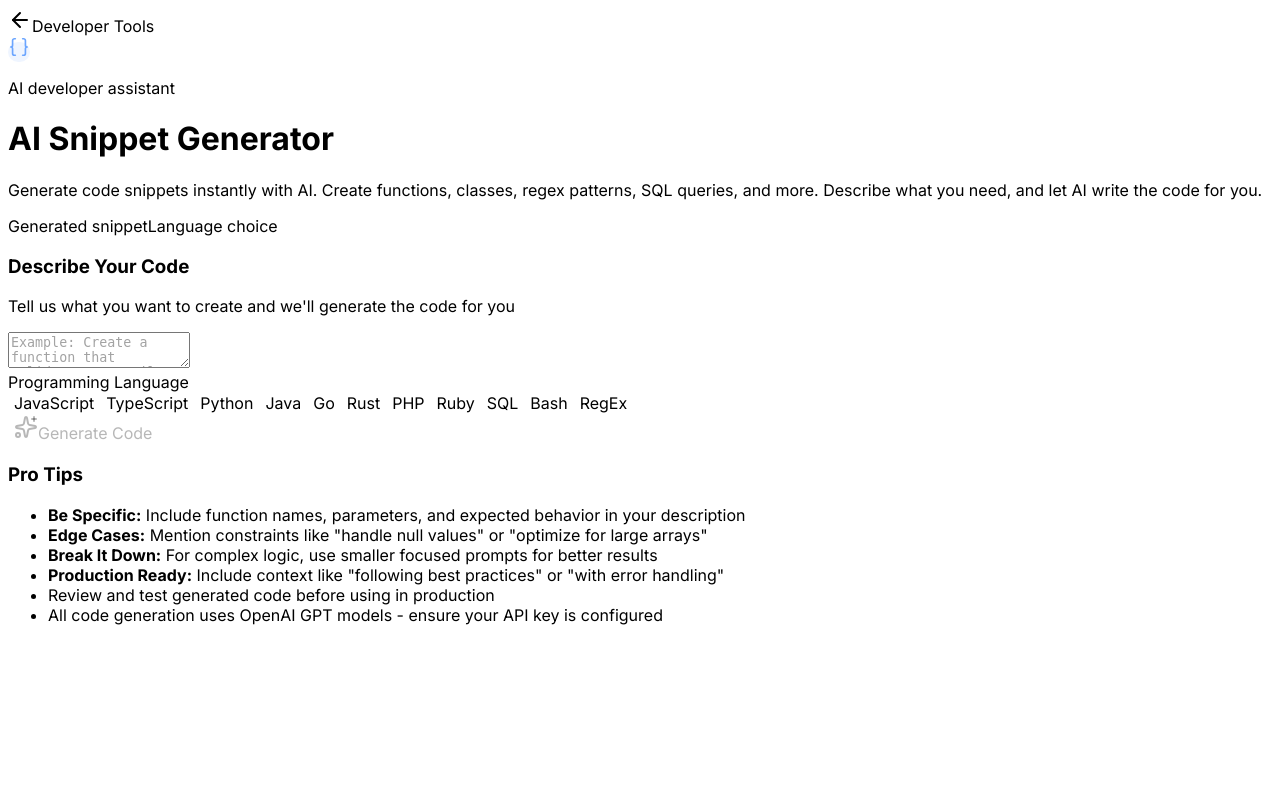
AI Snippet Generator - Copy Functionality Tests › should show copied state after copying
In the text box with placeholder "Create a function that validates": (99, 350) [8, 332, 190, 368], type "test prompt"
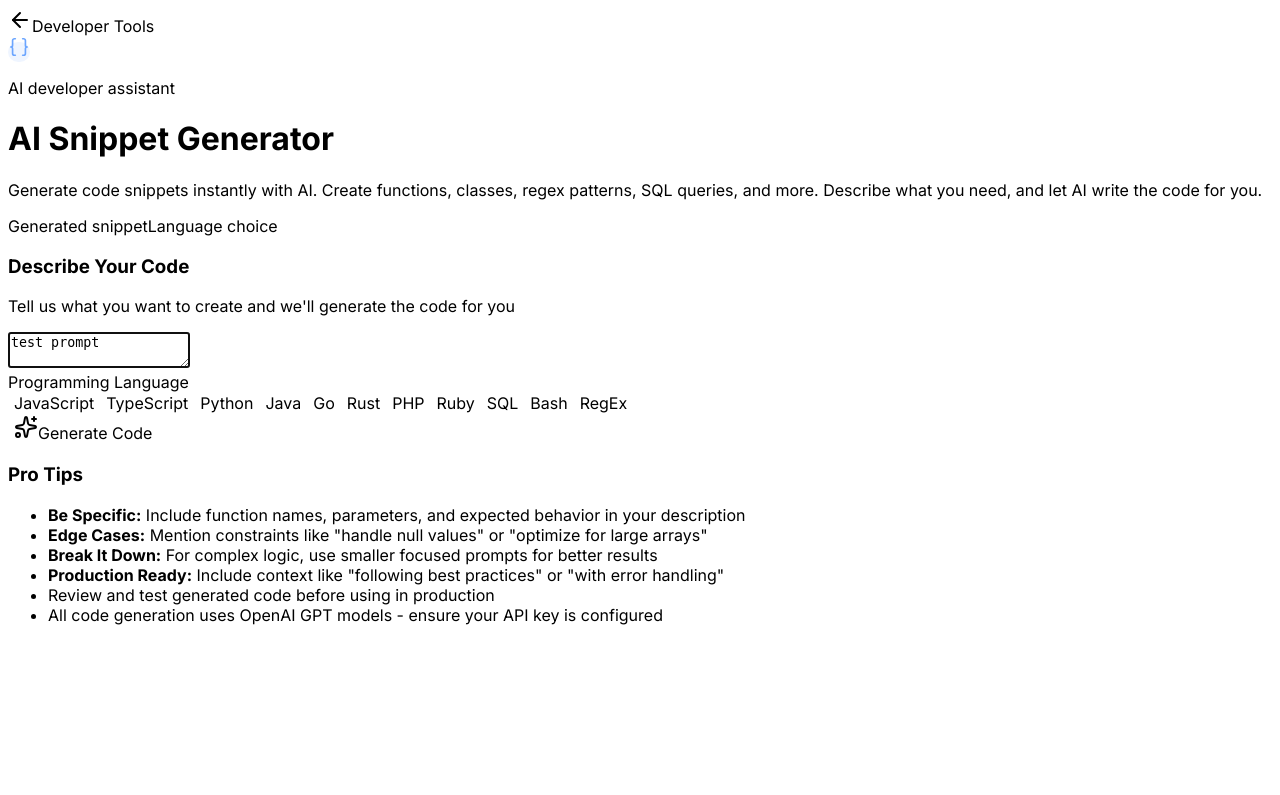
Click the button "Generate Code": (83, 429) [8, 414, 158, 444]
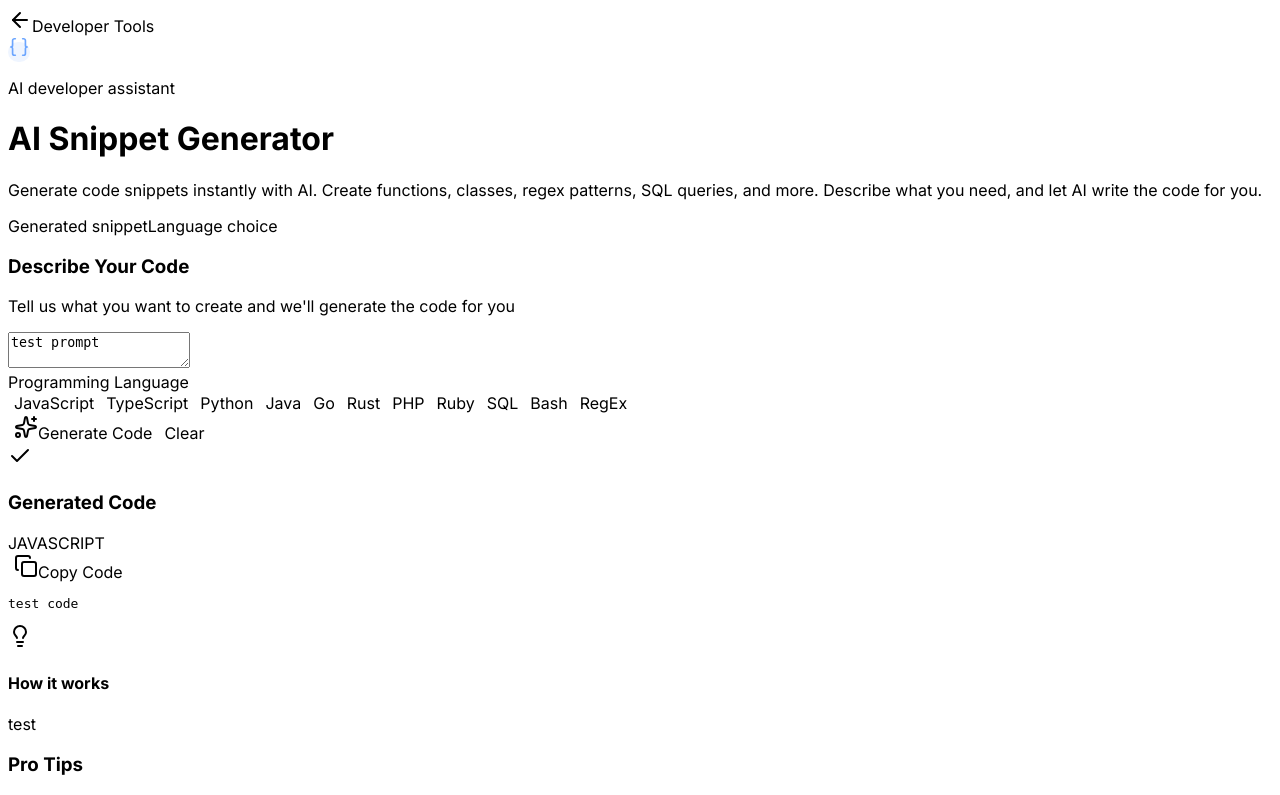
Result: the button "Copy Code" is shown
Click the button "Copy Code": (68, 568) [8, 553, 129, 583]
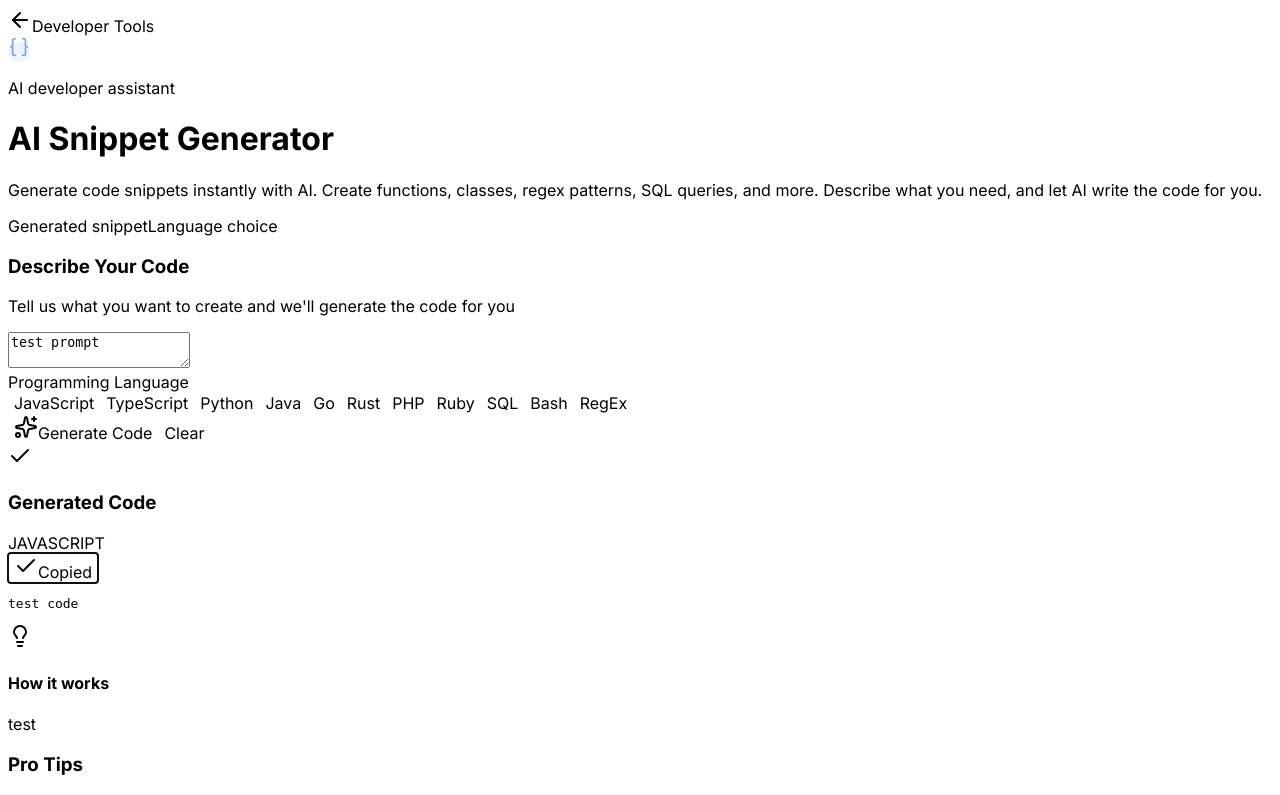
Result: the text "Copied" is shown at [8, 553, 98, 583]
